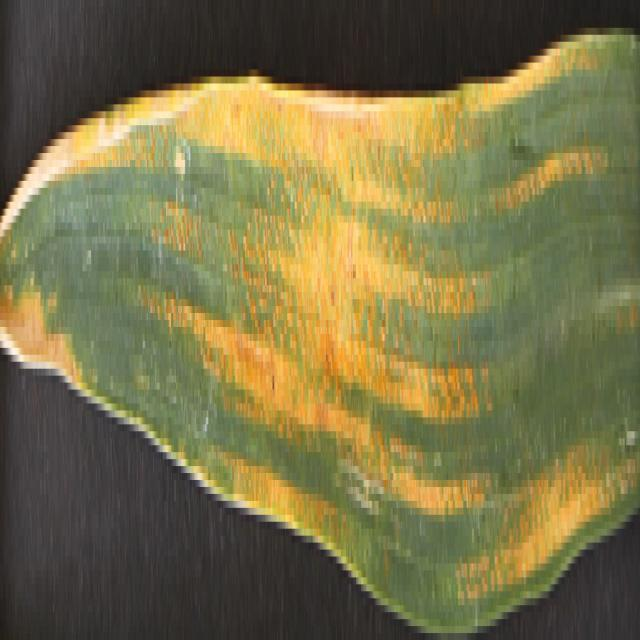leaf rust: (125, 7, 639, 598)
